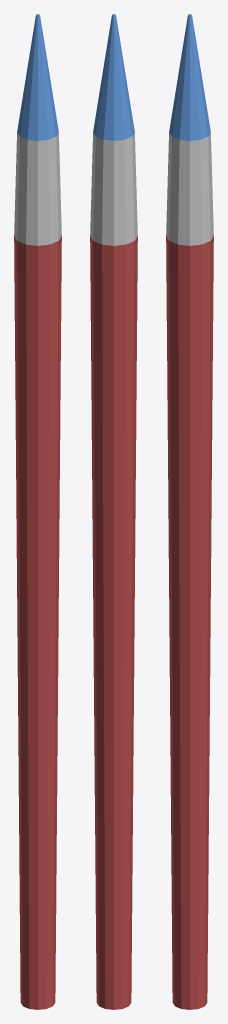
File: brush.glb
The picture shows the model from 3 angles, left to right: view 1: azimuth 90°, elevation 25°; view 2: azimuth 210°, elevation 25°; view 3: azimuth 270°, elevation 25°; orthographic projection.
Visible parts, largest first — view 1: brush; view 2: brush; view 3: brush.
Boxes of the visible parts, left/top/right/bottom form: brush: left=14, top=14, right=61, bottom=1009; brush: left=90, top=14, right=137, bottom=1009; brush: left=166, top=14, right=213, bottom=1009.
Size of the model in its own units: 0.0096 by 0.219 by 0.0096.
